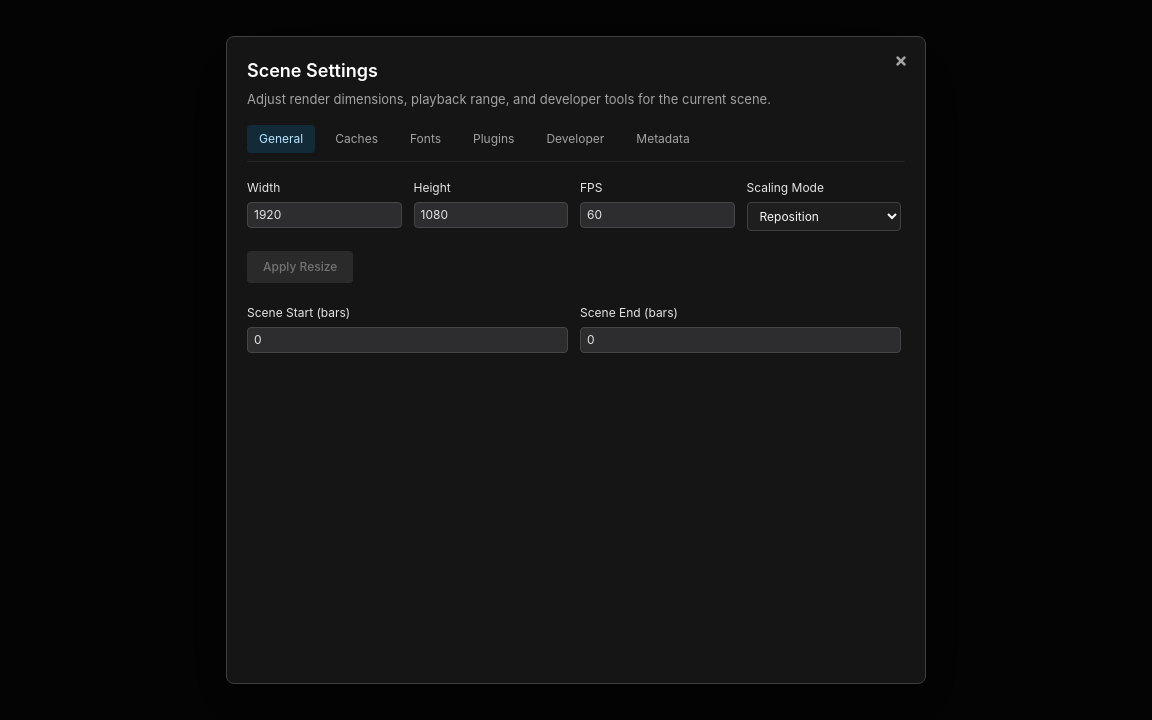
Test: SceneSettingsModal › updates project time while the Metadata tab is open
Click the button "Metadata": point(663, 139) [624,125,702,153]
Wait 250 ms
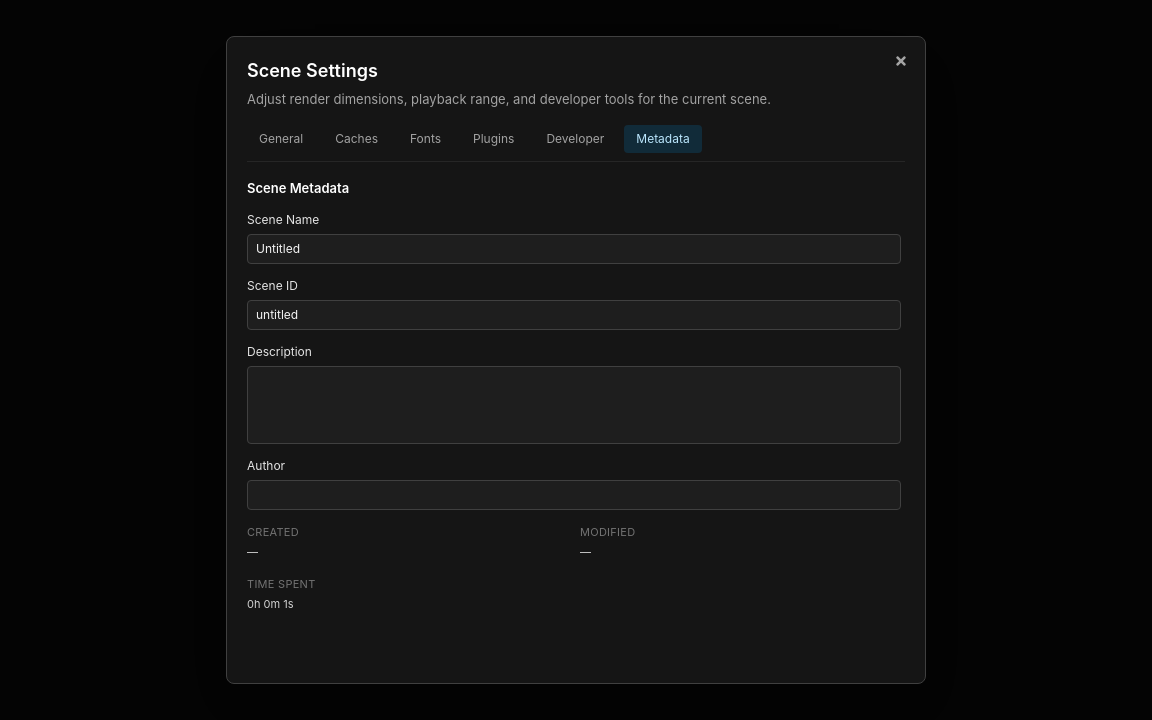
Expected: the text "0h 0m 1s" is shown, [247,597,294,611]
